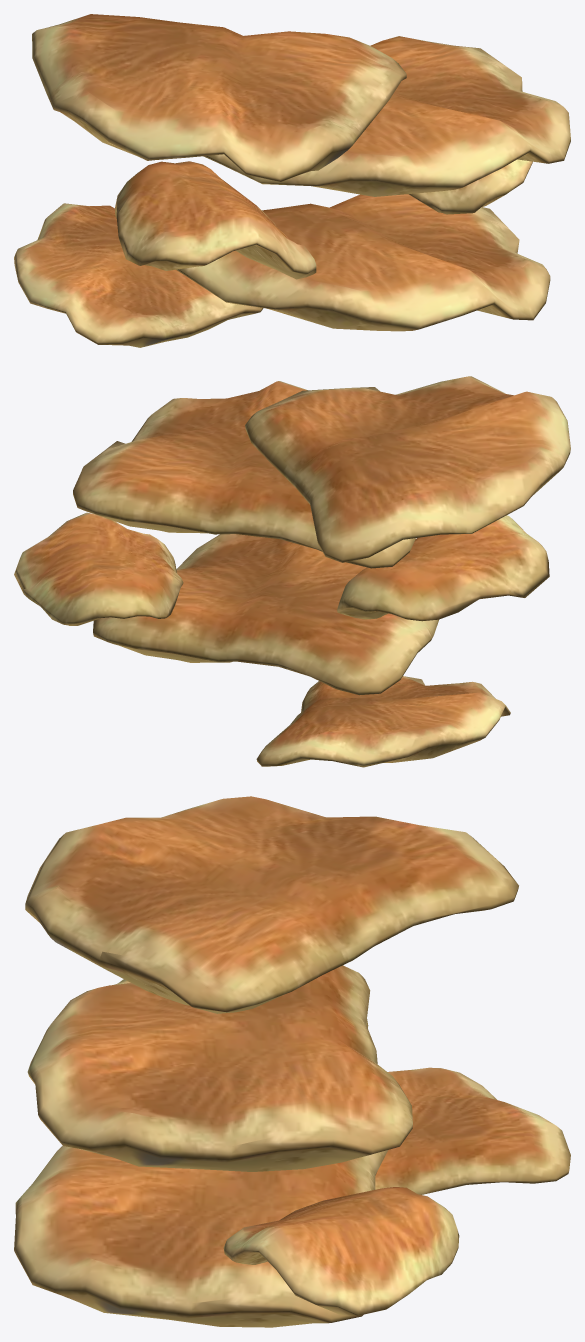
Rendered from mushroom_laetiporus.glb.
3 views of the same model, one above another, from view 1: azimuth 30°, elevation 25°; view 2: azimuth 150°, elevation 25°; view 3: azimuth 270°, elevation 25° (orthographic). The views are drawn at different scales.
Parts seen in each view (by area): view 1: Mushroom_Laetiporus; view 2: Mushroom_Laetiporus; view 3: Mushroom_Laetiporus.
Boxes of the visible parts, x1=… form: Mushroom_Laetiporus: x1=14, y1=14, x2=570, y2=347; Mushroom_Laetiporus: x1=14, y1=376, x2=570, y2=767; Mushroom_Laetiporus: x1=14, y1=796, x2=570, y2=1327.
Bounding box in the file's own units: 1.37 × 0.767 × 1.1.
Materials: 1 (1 with a texture image).
